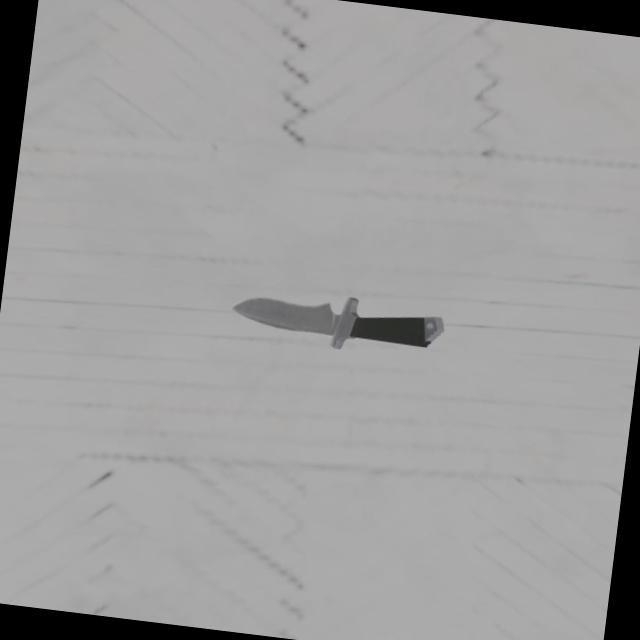knife: (351, 308, 428, 346)
